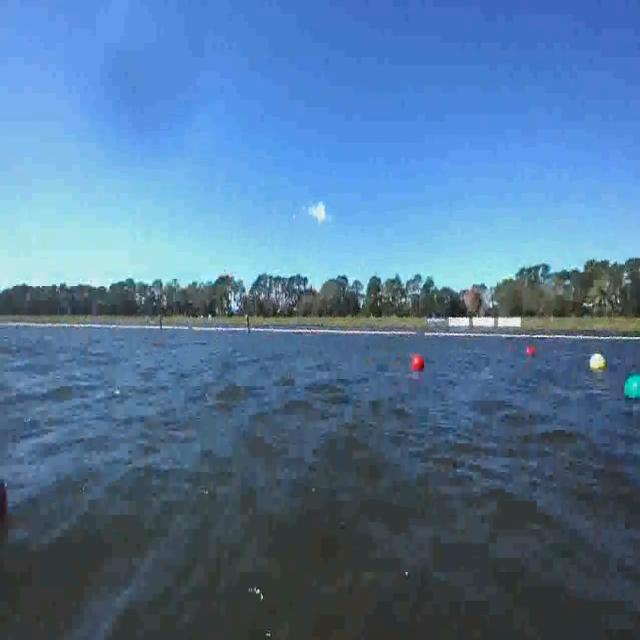green-buoy: (624, 375, 640, 400)
red-buoy: (413, 354, 425, 371), (527, 346, 536, 357)
yellow-buoy: (587, 354, 605, 371)
